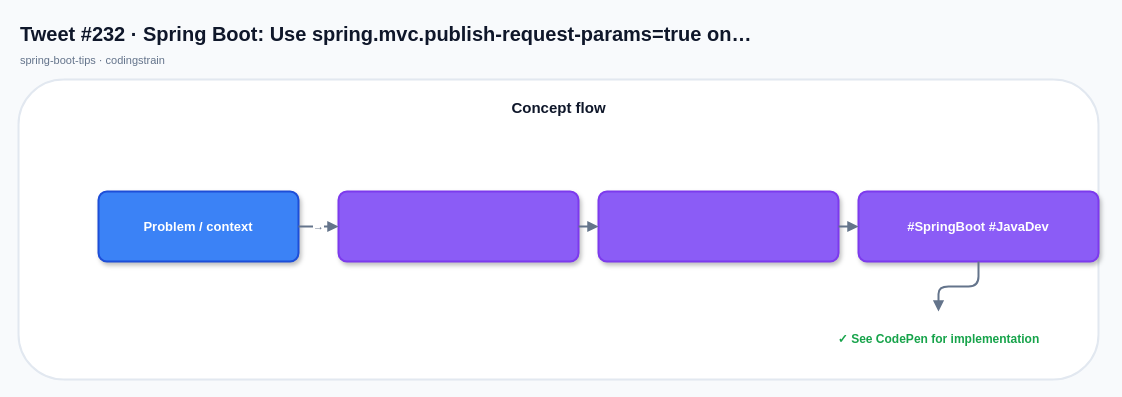
The diagram is 1122 pixels wide and 397 high, and some of its shapes have lost their labels. Each missing label, with the centre of its shape:
Spring Boot: Use spring.mvc.publish-request-params=true only in dev. I: [459,227]
🔴In production, logging request details can expose sensitive informati: [719,227]
